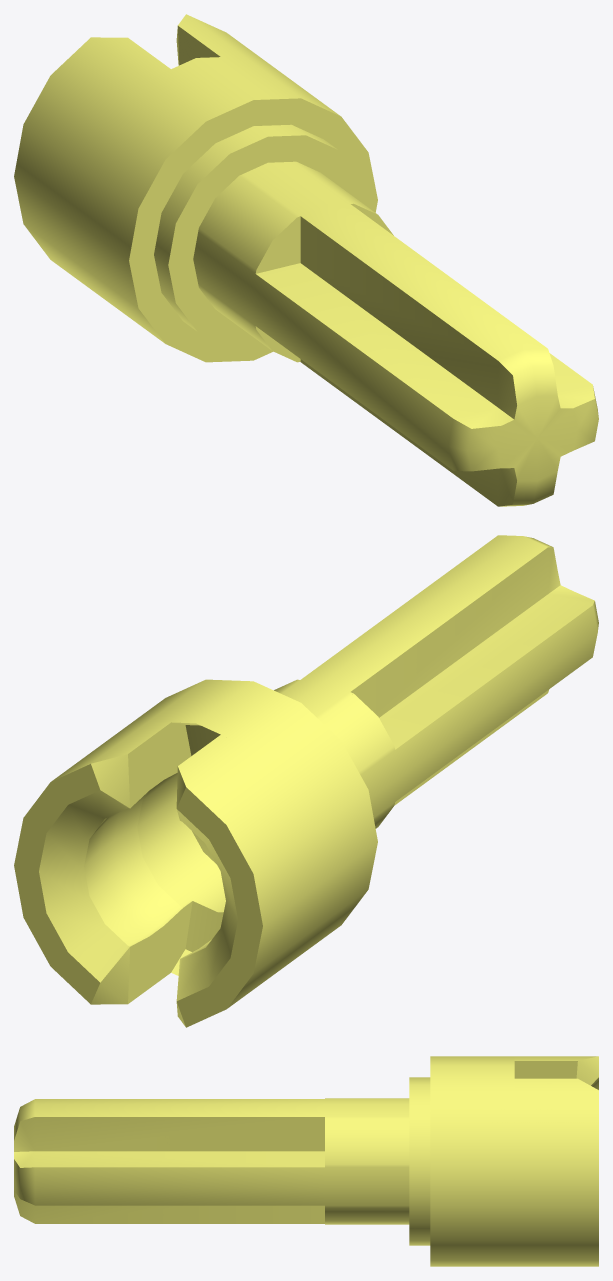
3 renders of one model, top to bottom at view 1: azimuth 30°, elevation 25°; view 2: azimuth 150°, elevation 25°; view 3: azimuth 270°, elevation 25°, orthographic. The views are drawn at different scales.
Visible parts, largest first — view 1: 92906.dat; view 2: 92906.dat; view 3: 92906.dat.
Part boxes in pixels (box(x1,y1,x2,y2)): 92906.dat: box(14, 14, 598, 506); 92906.dat: box(14, 535, 598, 1027); 92906.dat: box(14, 1056, 598, 1266).
Size of the model in its own units: 0.008 by 0.008 by 0.0222.
